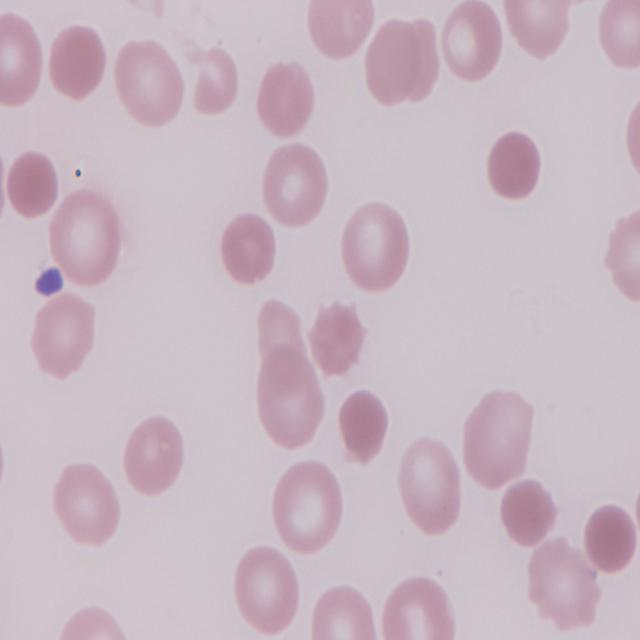RBC: (462, 380, 540, 492), (252, 346, 326, 453), (268, 456, 346, 557), (340, 200, 416, 300), (46, 186, 122, 285), (523, 531, 598, 627), (361, 12, 438, 105), (395, 436, 465, 538), (111, 36, 188, 128), (28, 286, 97, 382), (262, 139, 333, 231), (232, 544, 303, 636), (438, 0, 511, 86), (54, 460, 125, 548), (122, 413, 187, 499), (380, 574, 459, 640), (255, 57, 317, 136), (497, 2, 576, 62), (309, 299, 369, 377), (221, 210, 279, 288), (304, 584, 380, 640), (0, 14, 44, 110), (307, 0, 374, 62), (184, 46, 243, 115), (603, 204, 640, 309), (49, 604, 140, 640), (595, 0, 639, 74)
Spherocyte: (46, 20, 112, 100), (485, 128, 544, 200), (582, 500, 636, 576), (6, 146, 56, 222), (336, 390, 389, 458)
